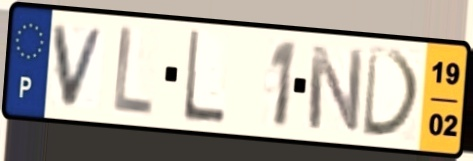1: (263, 37, 299, 130)
D: (359, 44, 424, 140)
L: (180, 28, 228, 127), (110, 23, 156, 120)
N: (305, 42, 366, 136)
V: (50, 22, 110, 110)
